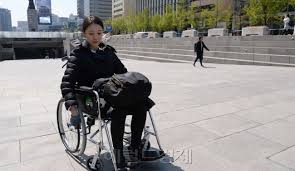wheelchair: (56, 15, 166, 171)
